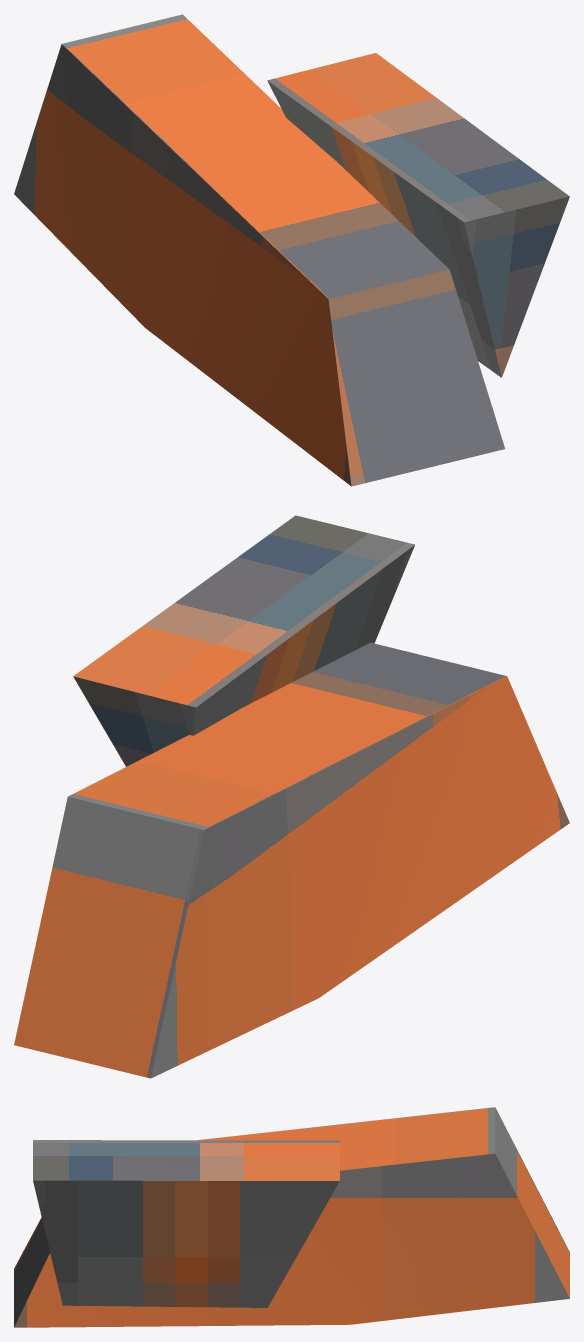
The picture shows the model from 3 angles, top to bottom: view 1: azimuth 30°, elevation 25°; view 2: azimuth 150°, elevation 25°; view 3: azimuth 270°, elevation 25°; orthographic projection. The views are drawn at different scales.
Visible parts, largest first — view 1: Hgn_PulsarCorvette_LOD2; view 2: Hgn_PulsarCorvette_LOD2; view 3: Hgn_PulsarCorvette_LOD2.
Boxes of the visible parts, bbox=[...] form: Hgn_PulsarCorvette_LOD2: bbox=[14, 14, 569, 486]; Hgn_PulsarCorvette_LOD2: bbox=[14, 515, 569, 1078]; Hgn_PulsarCorvette_LOD2: bbox=[14, 1107, 569, 1327].
Size of the model in its own units: 5.22 by 4.84 by 13.78.
